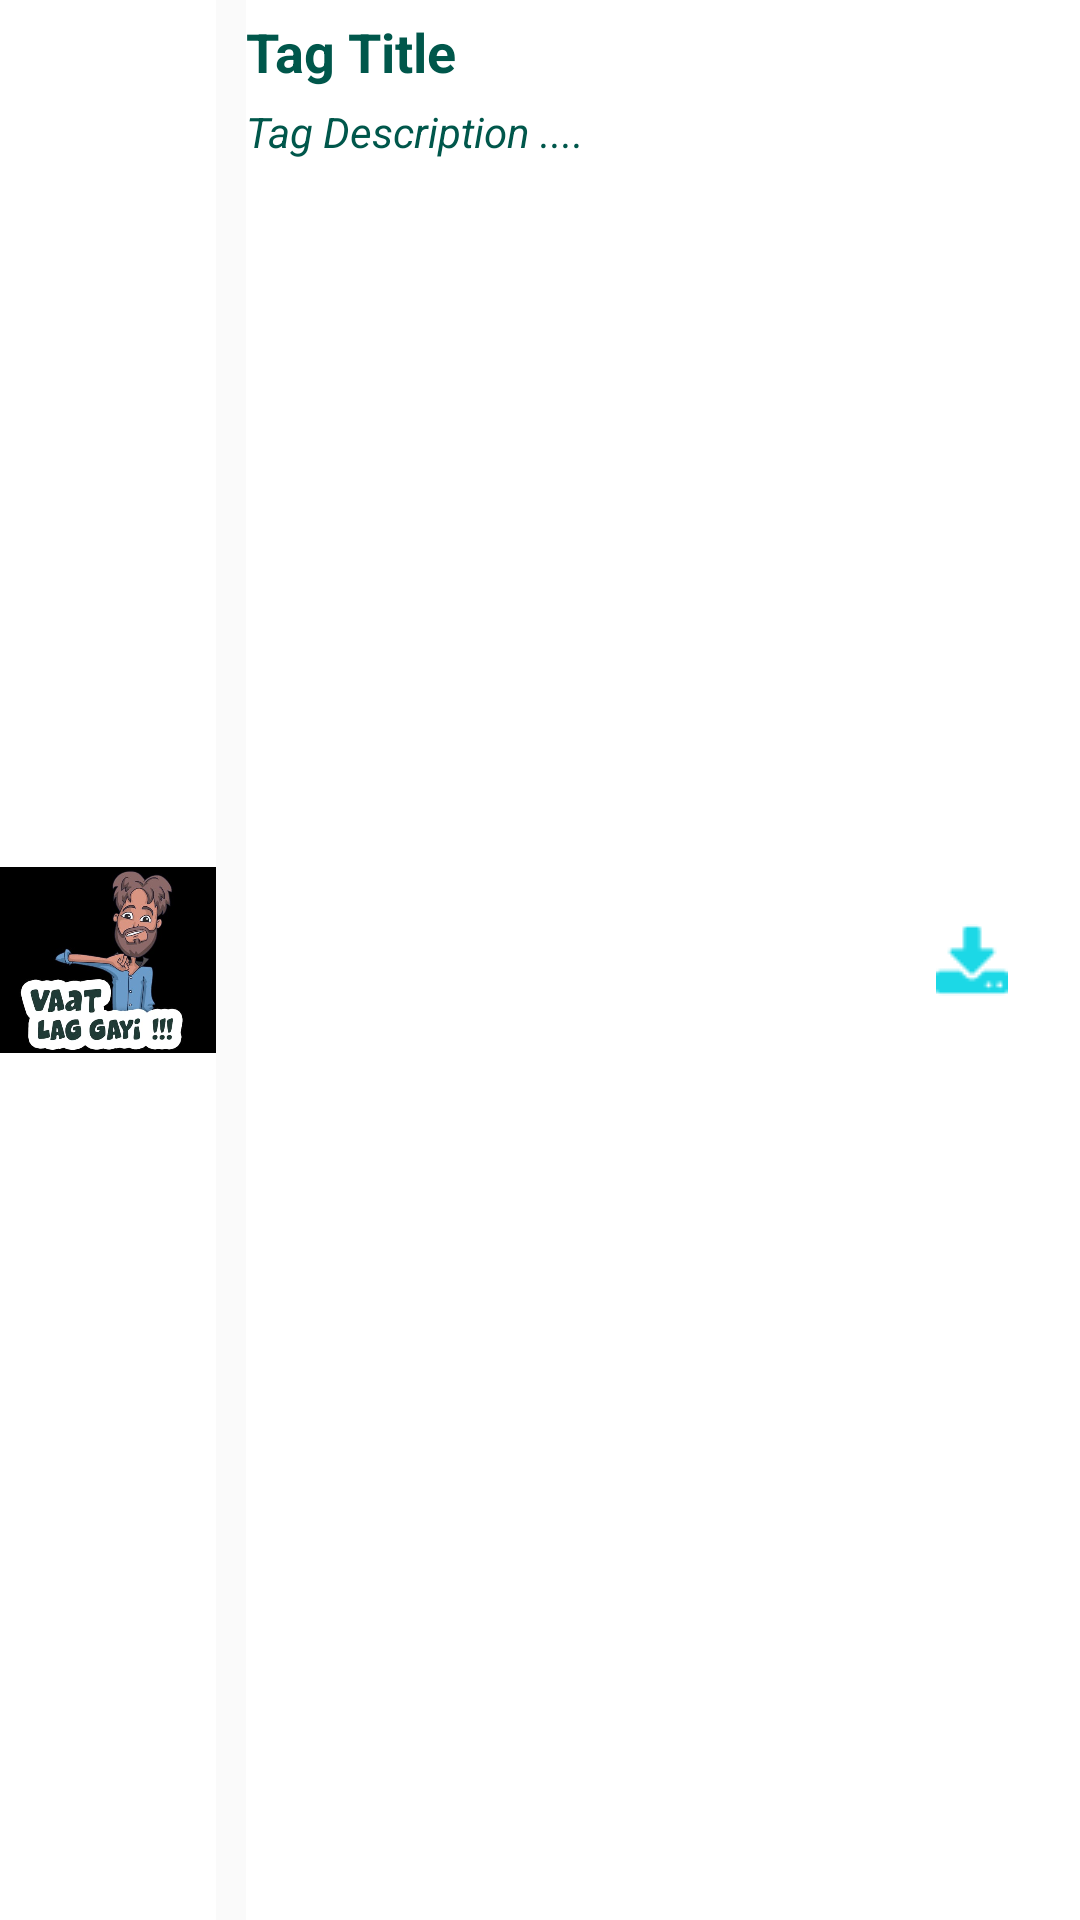

Icons on this 1080*1920 Android screen, each with its box as (x1, y1, x2, y2):
download: (936, 926, 1008, 994)
